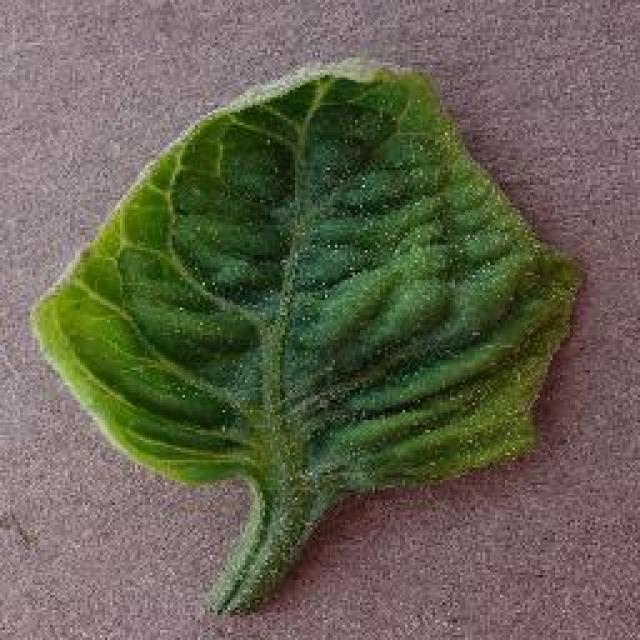Tomato yellow virus leaf: (28, 51, 578, 494)
